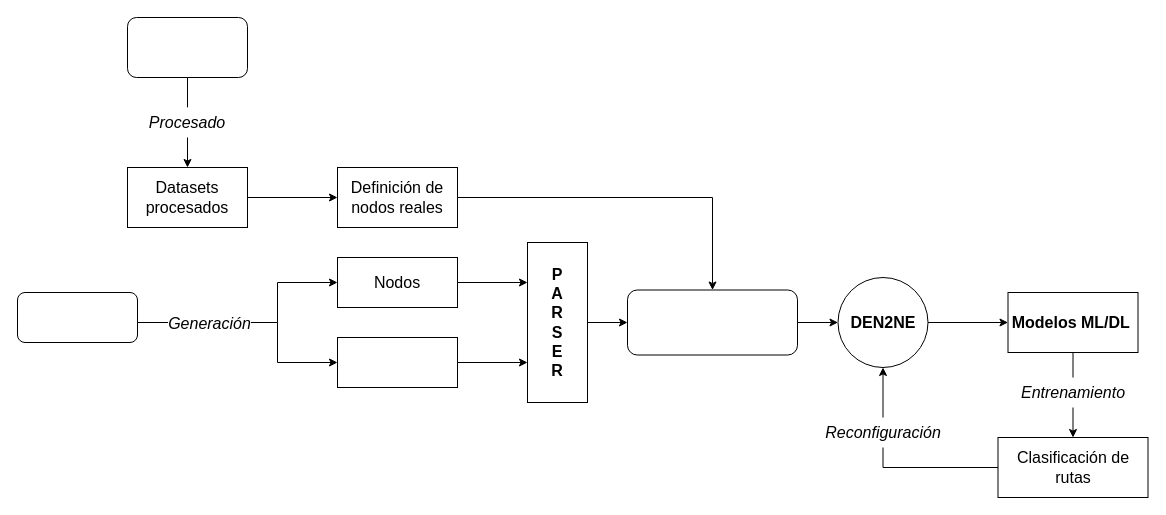
Image size: 1166x515. Some labels were removed from this diagram. The shapes that lost their labels are listed below. From the top down, each one's centre as x and y in pixels, then its label:
At point 187,47: "Datasets originales".
At point 77,317: "BRITE".
At point 712,322: "Topologías aleatorias con características reales".
At point 397,362: "Enlaces".
